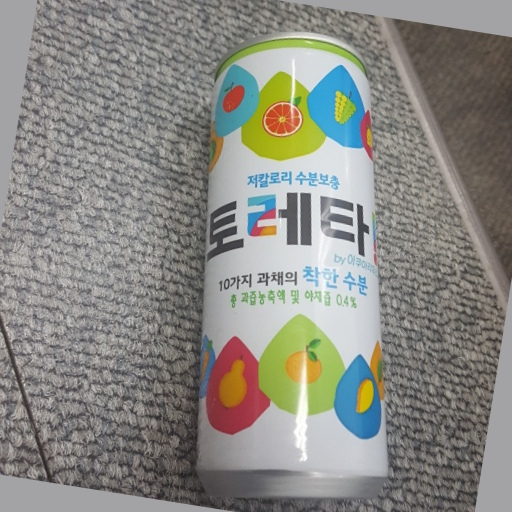Metal_0: (192, 30, 396, 506)
